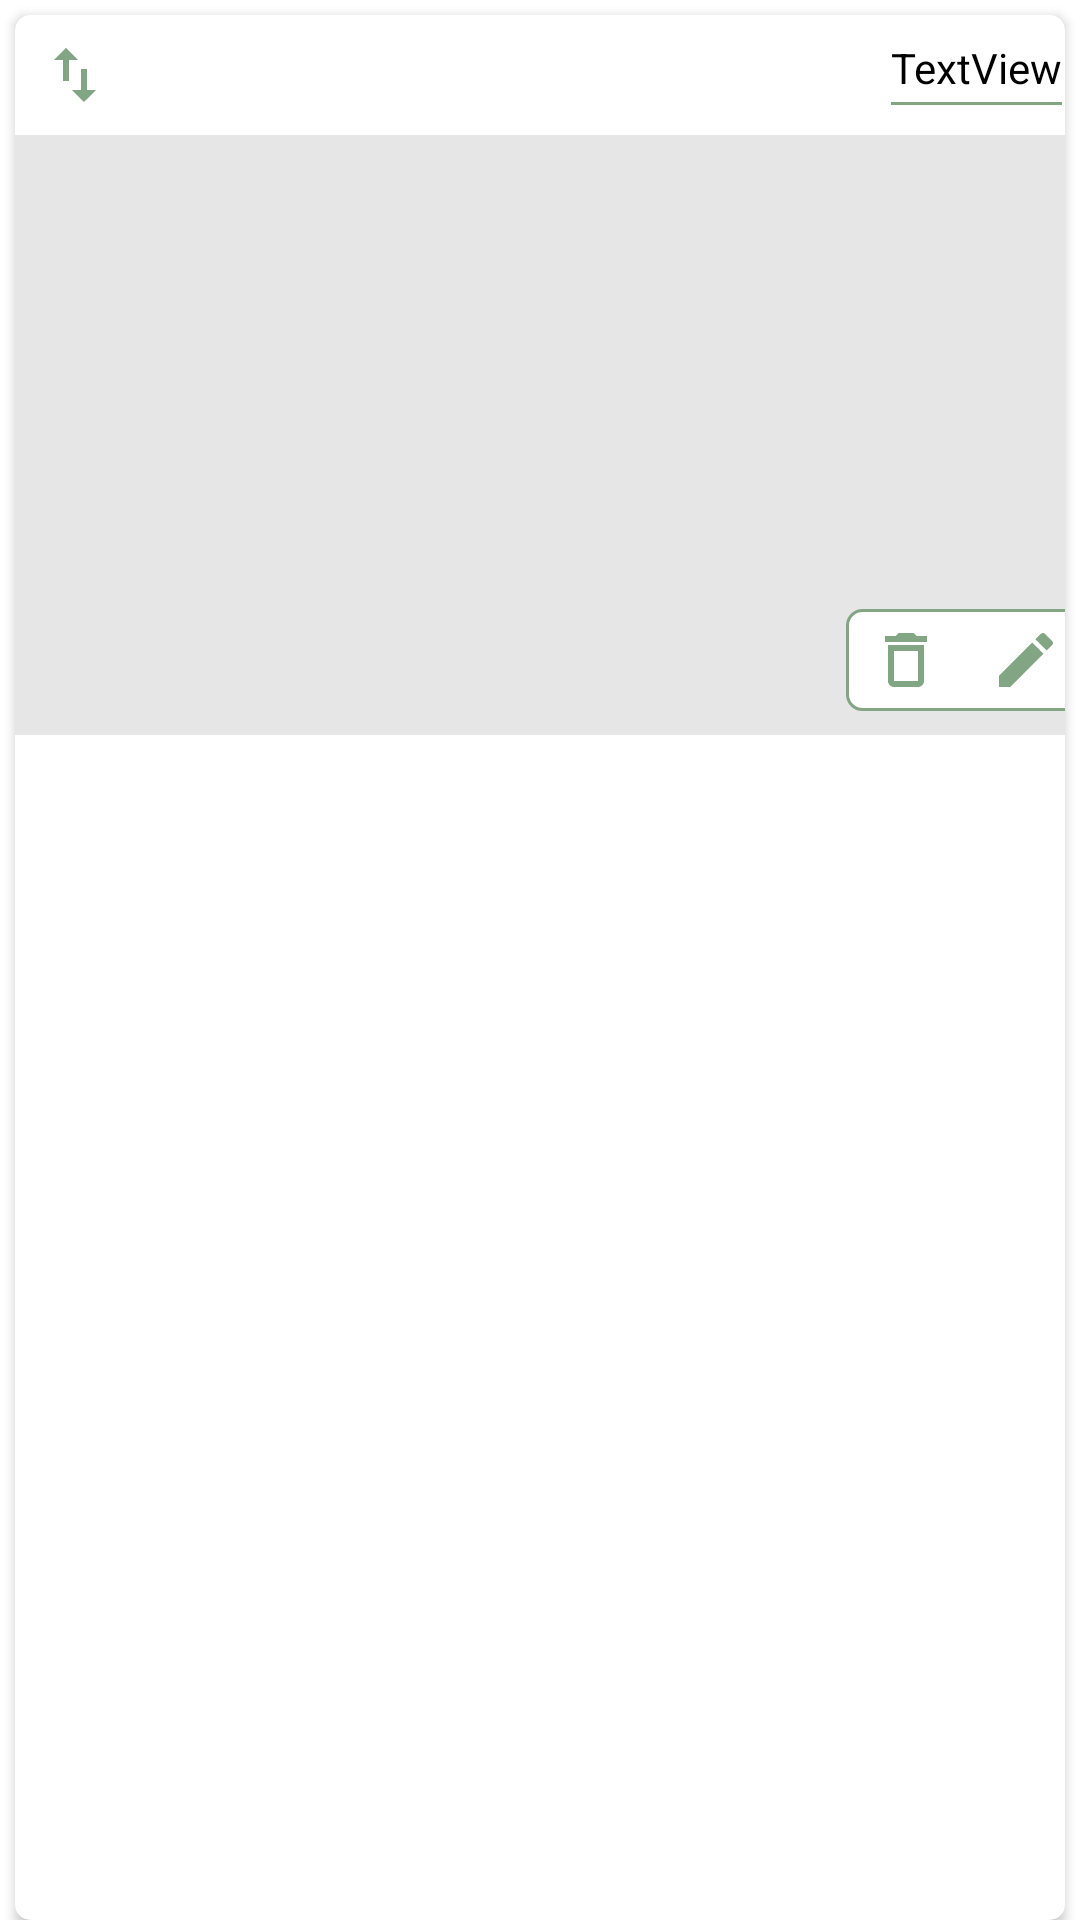

Icons on this 1080×1920 Android screen, each with the point to tap as [x,y]:
delete: [906,660]
drag: [75,75]
edit: [1026,660]
